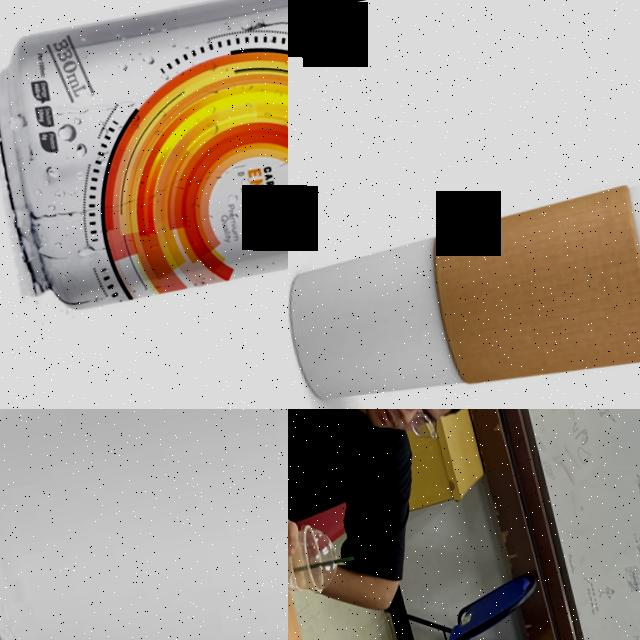can: (0, 0, 288, 324)
cup: (288, 127, 640, 409), (0, 409, 288, 640), (288, 519, 342, 608)
